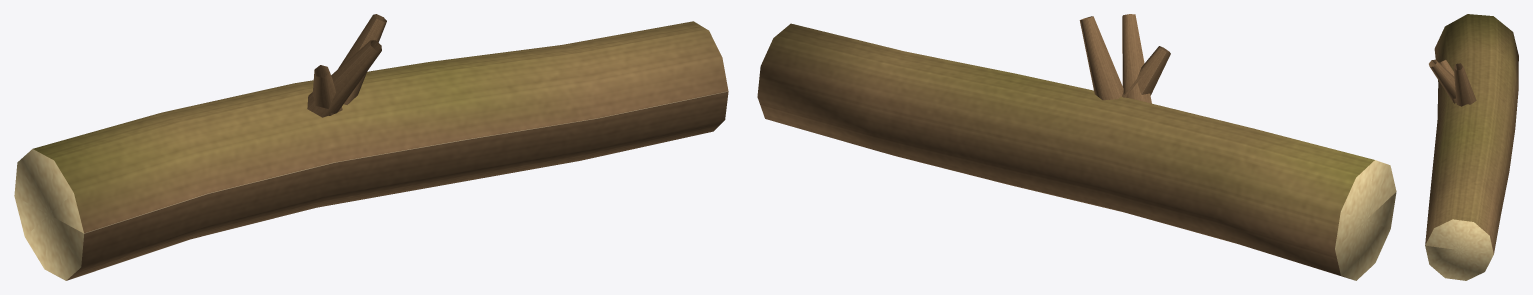
The model's file is log_fallen.glb.
3 renders of one model, left to right at view 1: azimuth 30°, elevation 25°; view 2: azimuth 150°, elevation 25°; view 3: azimuth 270°, elevation 25°, orthographic. The views are drawn at different scales.
Parts seen in each view (by area): view 1: log_fallen; view 2: log_fallen; view 3: log_fallen.
Boxes of the visible parts, x1,y1,x2,y2 form: log_fallen: (14,14,728,280); log_fallen: (757,14,1396,280); log_fallen: (1425,14,1518,280).
Bounding box in the file's own units: 3.43 × 0.9856 × 0.6972.
2 materials, 2 textured.
